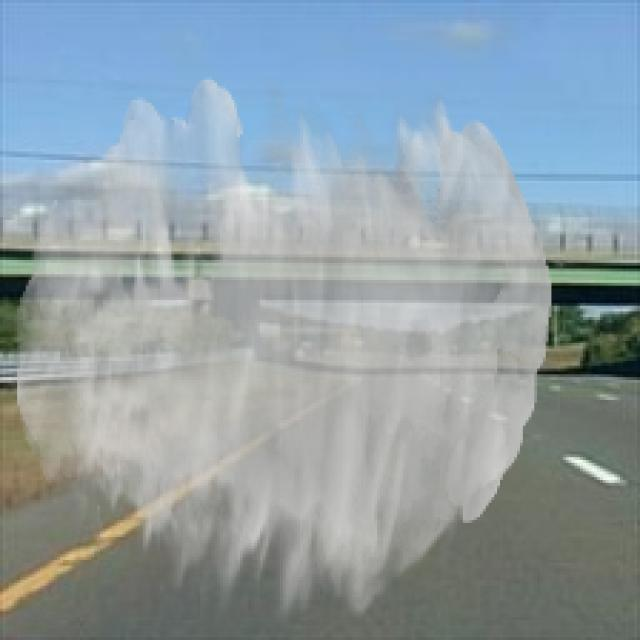smoke: (14, 77, 552, 623)
